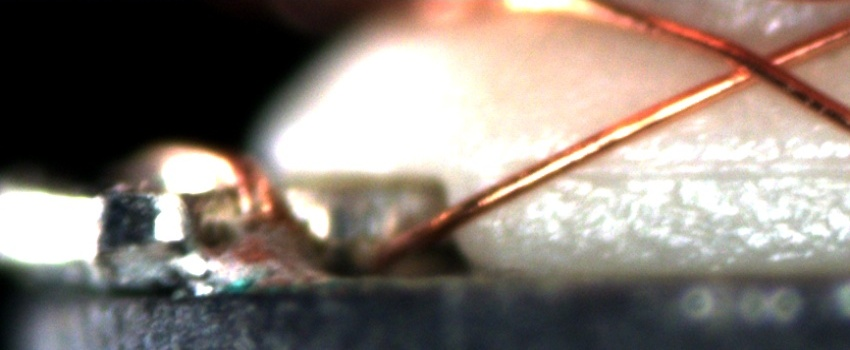CL: (713, 34, 803, 92)
DL: (570, 134, 850, 204)
TE: (130, 130, 283, 220)
